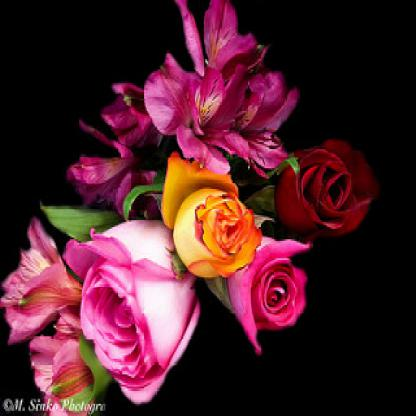ROSE-MAWAR: (4, 5, 396, 390)
